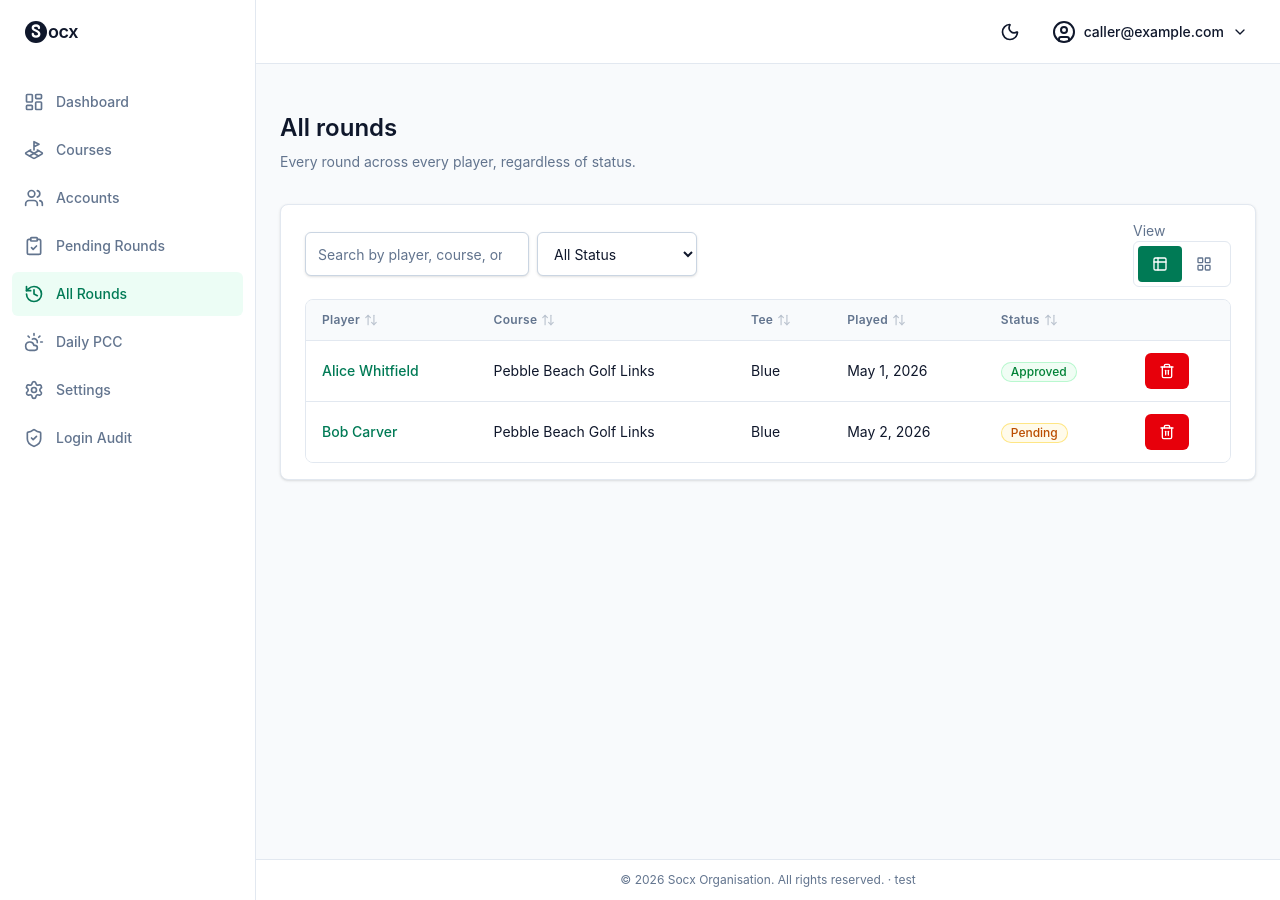
Test: AdminRoundsListPage › delete › shows a plain 'Round deleted.' toast when the round never had a recorded score, no recalculation claimed
Check: the link "Bob Carver" is shown, box x1=322 y1=423 x2=397 y2=440
Click the button named "Delete Bob Carver's round". click: (1167,432)
box: x1=1145 y1=414 x2=1189 y2=450
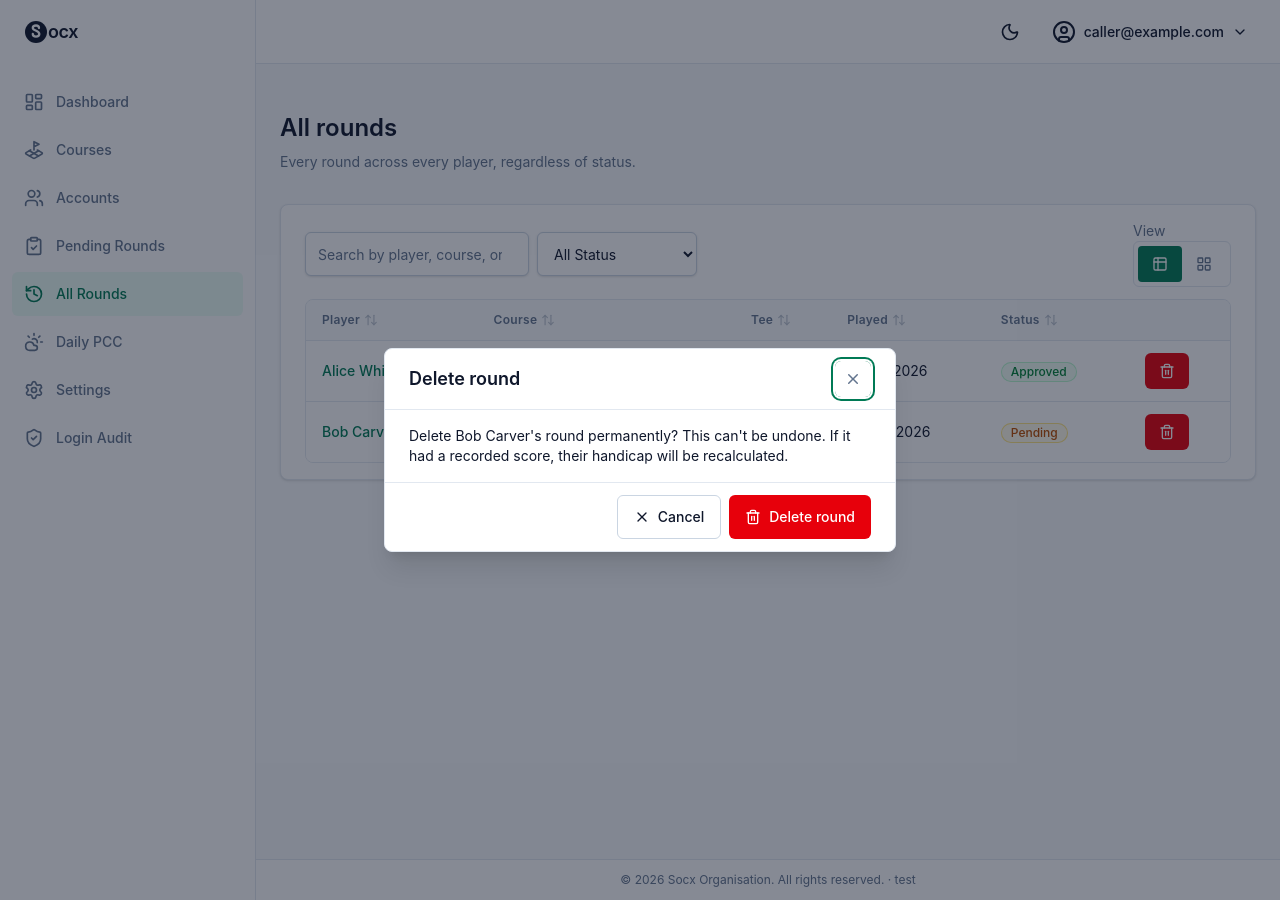
Click the button "Delete round". click: (800,517)
box: x1=729 y1=495 x2=871 y2=539
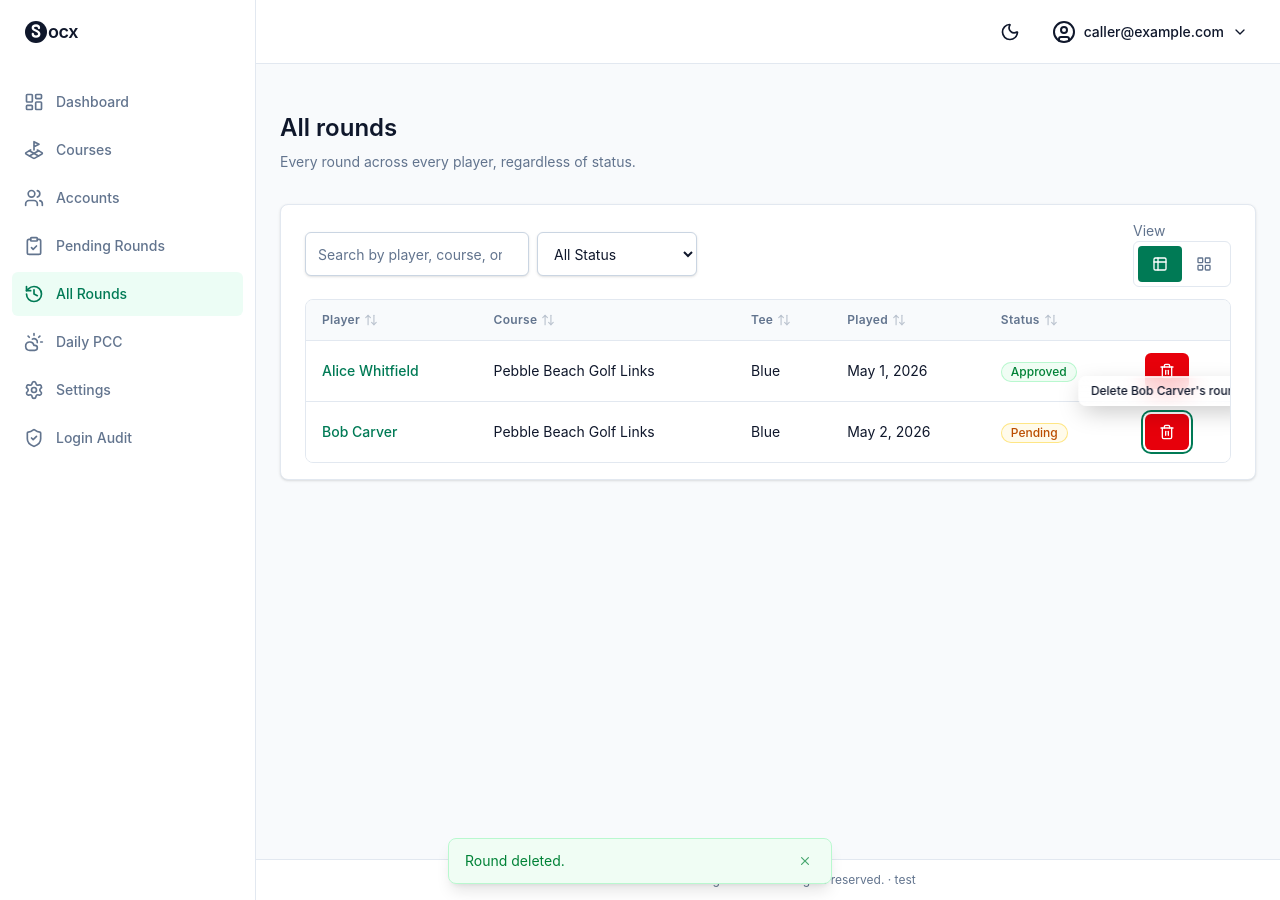
Check: the message reads "Round deleted.", box x1=465 y1=852 x2=565 y2=869
Check: the message no longer shows "recalculated", box x1=448 y1=838 x2=832 y2=884
